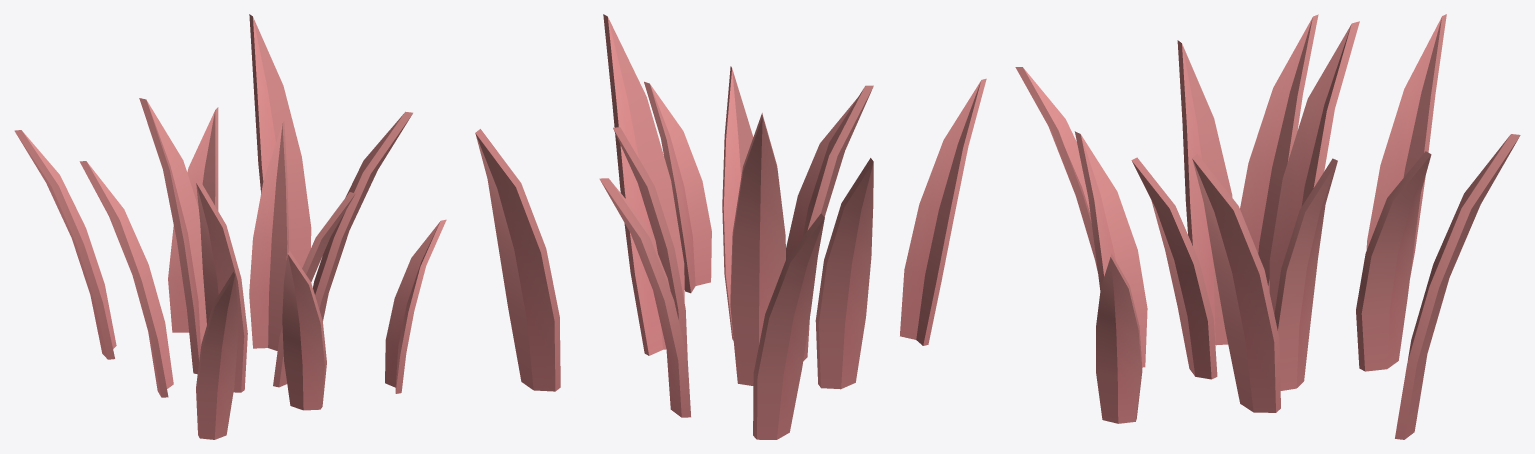
Rendered from Grass_2_D_Color8.fbx.
3 views of the same model, side by side, from view 1: azimuth 30°, elevation 25°; view 2: azimuth 150°, elevation 25°; view 3: azimuth 270°, elevation 25° (orthographic). The views are drawn at different scales.
Parts seen in each view (by area): view 1: Grass_2_D_Color8; view 2: Grass_2_D_Color8; view 3: Grass_2_D_Color8.
Boxes of the visible parts, x1=… form: Grass_2_D_Color8: x1=14, y1=14, x2=446, y2=439; Grass_2_D_Color8: x1=475, y1=14, x2=986, y2=439; Grass_2_D_Color8: x1=1015, y1=14, x2=1520, y2=439.
Size of the model in its own units: 1.1 by 0.9352 by 1.37.
